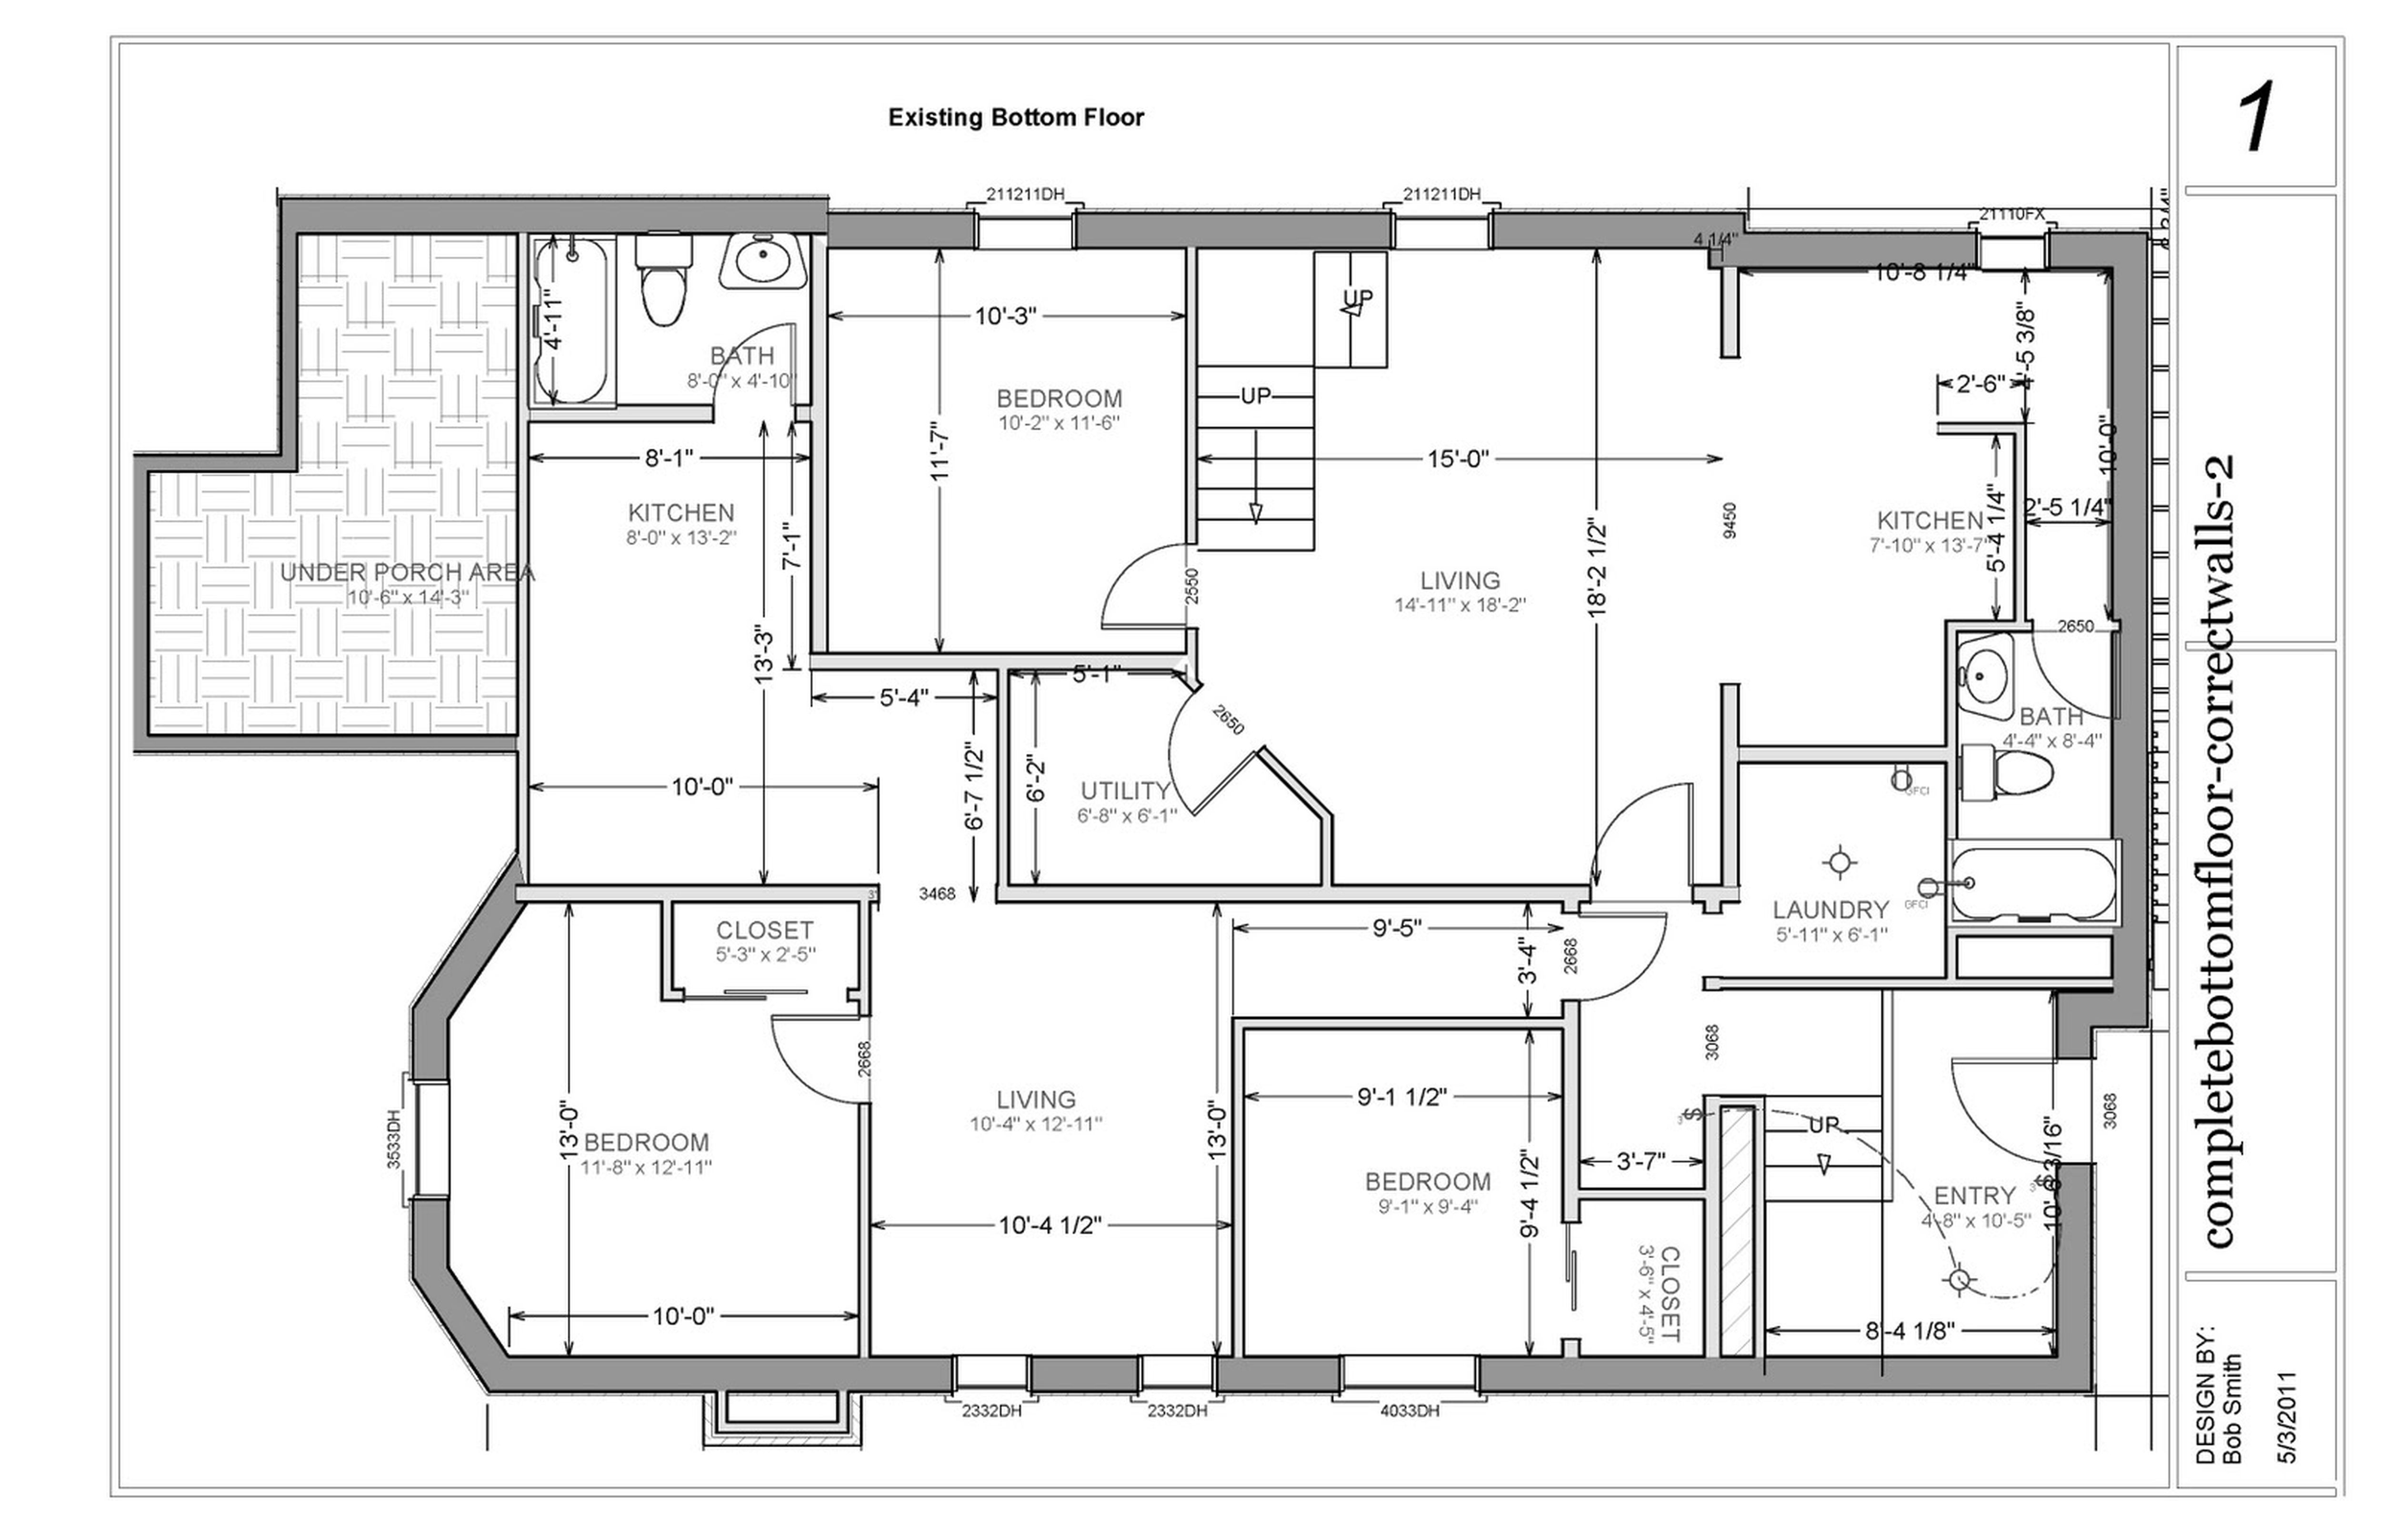wall: (1477, 1349, 2098, 1401), (279, 194, 828, 240), (2110, 229, 2148, 849), (1071, 205, 1392, 253), (1494, 203, 1746, 253), (804, 229, 831, 665), (486, 1351, 708, 1401), (1741, 229, 1980, 274), (998, 884, 1597, 901), (798, 651, 1187, 677), (2048, 1163, 2091, 1396), (522, 880, 882, 908), (1701, 967, 2115, 990), (987, 651, 1020, 903), (1175, 253, 1203, 547), (824, 208, 977, 255), (1215, 1351, 1348, 1394), (1723, 741, 1958, 766), (522, 403, 720, 429), (847, 1111, 868, 1352), (2056, 233, 2154, 278), (1026, 1358, 1138, 1394), (403, 1004, 456, 1080), (1723, 682, 1741, 894), (843, 1361, 951, 1391), (2114, 925, 2148, 1012), (514, 222, 529, 410), (2058, 993, 2091, 1061), (857, 899, 873, 1004), (1696, 884, 1744, 906)
